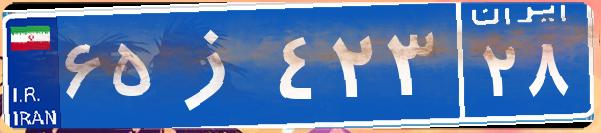2: (330, 28, 385, 110), (475, 38, 525, 113)
3: (385, 28, 445, 110)
4: (273, 28, 330, 110)
5: (110, 28, 158, 105)
6: (57, 26, 110, 107)
8: (525, 38, 570, 115)
ز: (158, 15, 273, 115)
